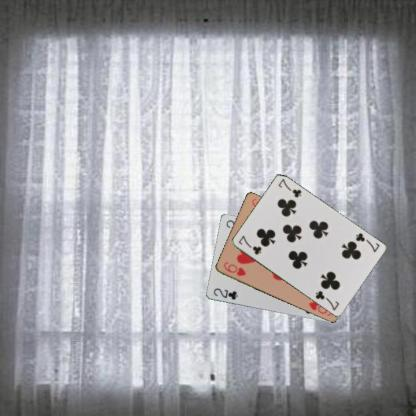2c: (211, 285, 239, 301)
6h: (220, 260, 246, 278)
7c: (353, 230, 381, 254), (236, 233, 262, 256)
